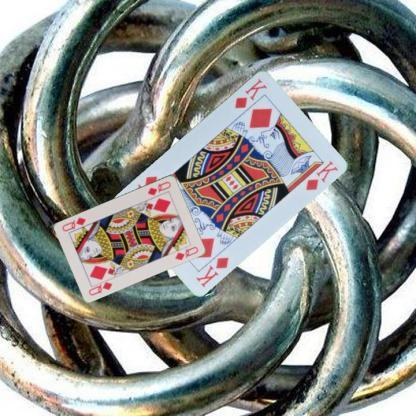Kd: (193, 254, 230, 288), (232, 76, 268, 110)
Qd: (86, 274, 113, 296), (145, 178, 172, 196)
